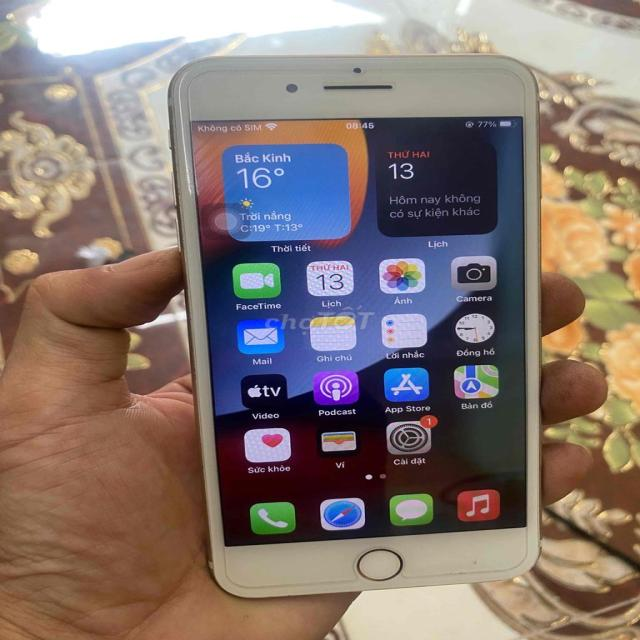scratch: (454, 553, 488, 572)
